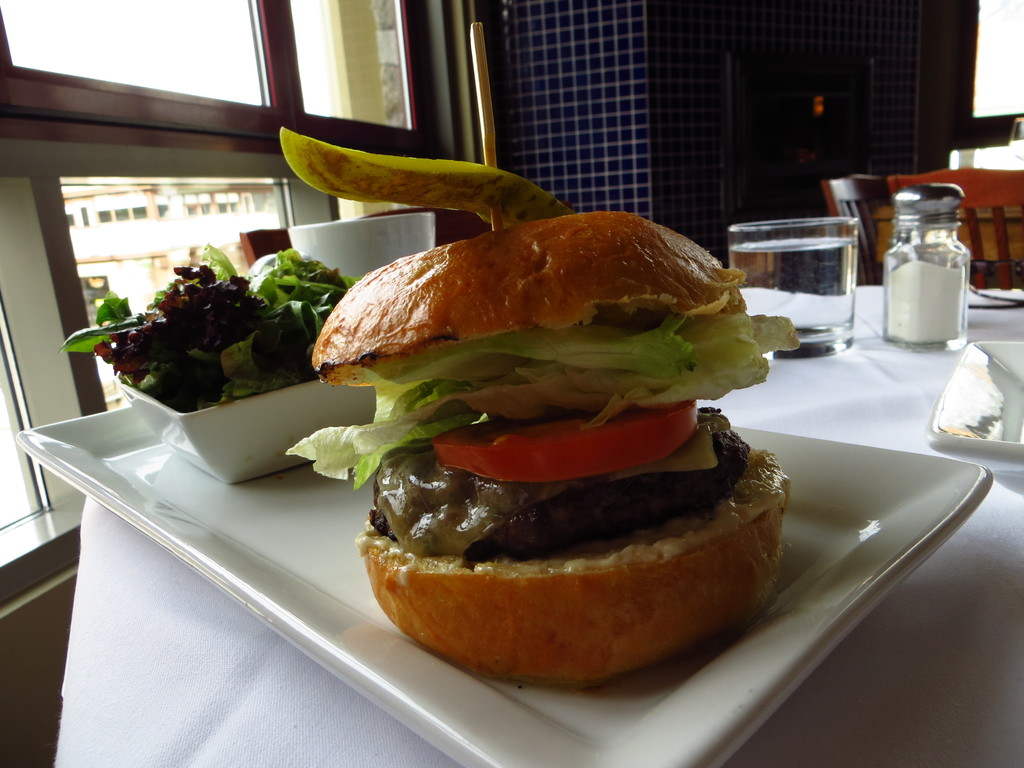Hamburger: (304, 197, 794, 672)
